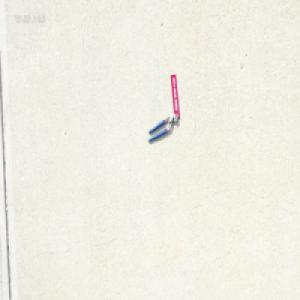Label: (170, 72, 180, 118)
Pliers: (147, 112, 178, 143)
